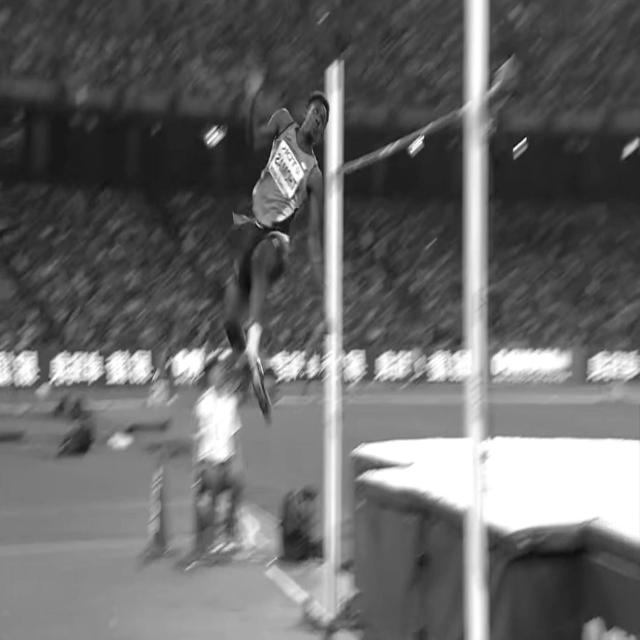jump: (220, 59, 330, 427)
